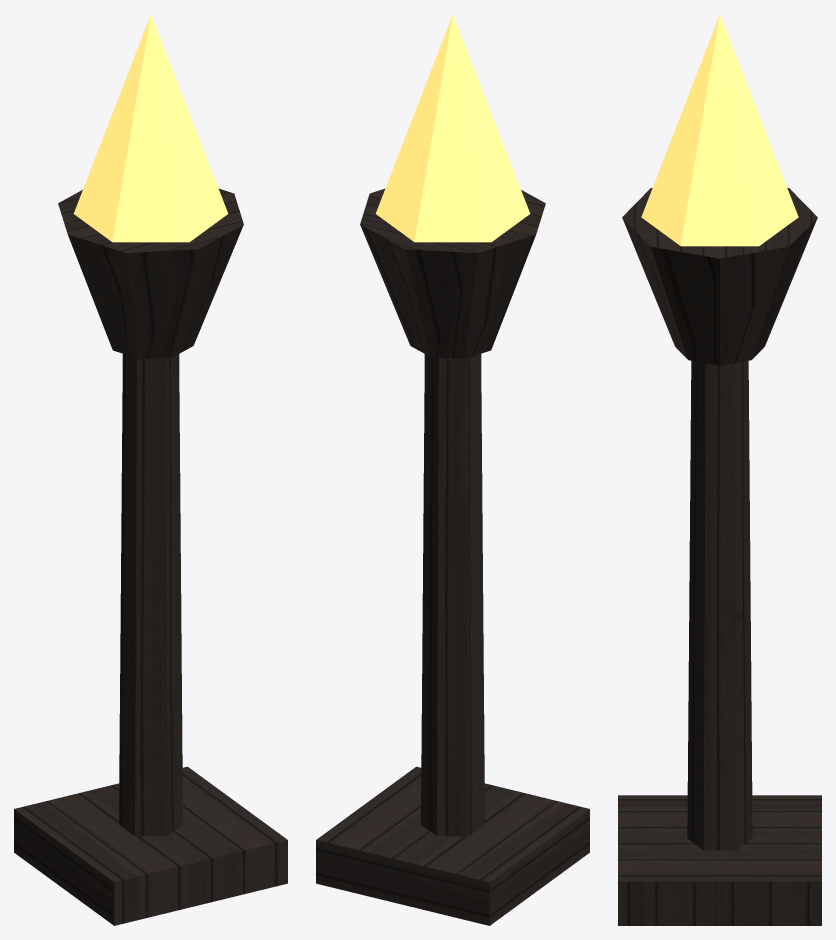
The model's file is torch_stand_01.glb.
3 renders of one model, left to right at view 1: azimuth 30°, elevation 25°; view 2: azimuth 150°, elevation 25°; view 3: azimuth 270°, elevation 25°, orthographic.
Parts seen in each view (by area): view 1: torch_stand_01; view 2: torch_stand_01; view 3: torch_stand_01.
Boxes of the visible parts, bbox=[...] form: torch_stand_01: bbox=[14, 14, 287, 925]; torch_stand_01: bbox=[316, 14, 589, 925]; torch_stand_01: bbox=[618, 14, 821, 925].
Size of the model in its own units: 0.5 by 2.35 by 0.5.
2 materials, 1 textured.
